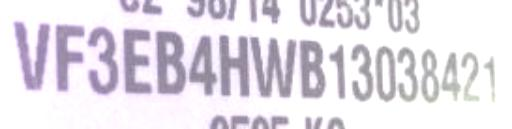letter: (249, 35, 299, 96), (12, 18, 52, 93), (118, 25, 154, 96), (52, 22, 86, 95), (86, 25, 118, 94), (154, 29, 186, 96), (186, 31, 218, 94), (220, 33, 250, 100), (298, 39, 328, 100), (347, 41, 375, 102), (416, 46, 442, 105), (326, 43, 350, 102), (437, 48, 461, 105), (459, 48, 483, 105), (373, 41, 395, 102), (395, 45, 417, 104), (480, 50, 502, 105)
